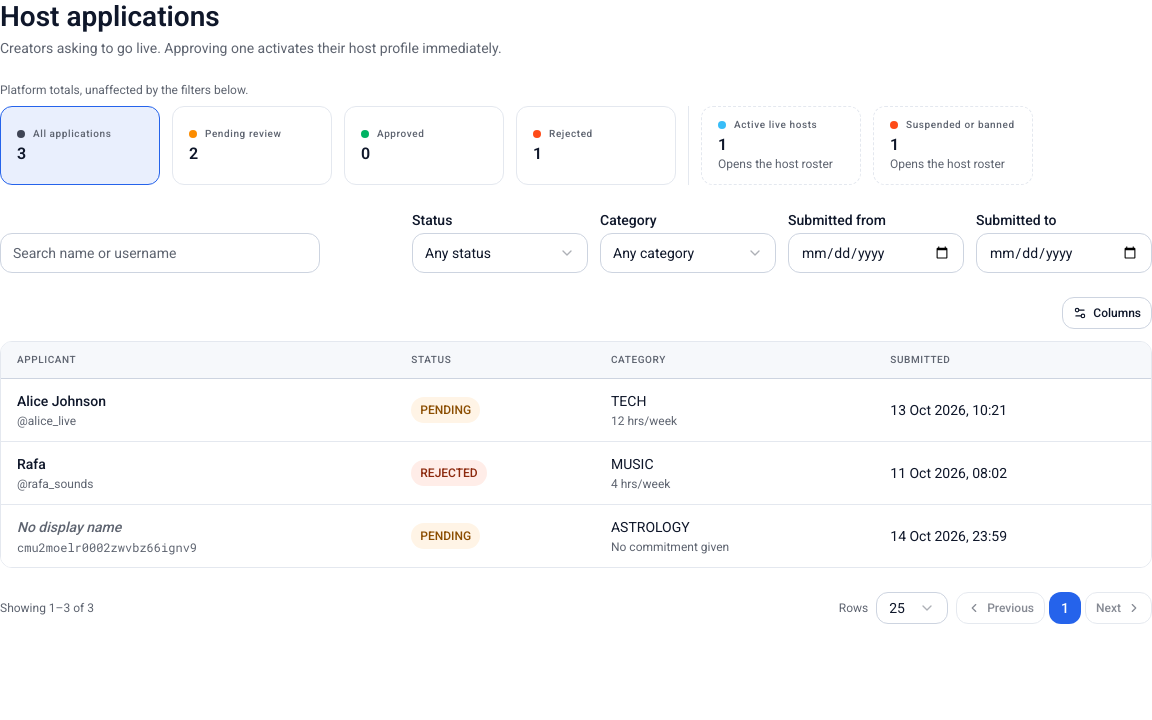
Test: the drawer › offers no decisions on an application already reviewed
Click the text "Rafa": (31, 464) [17,456,46,472]
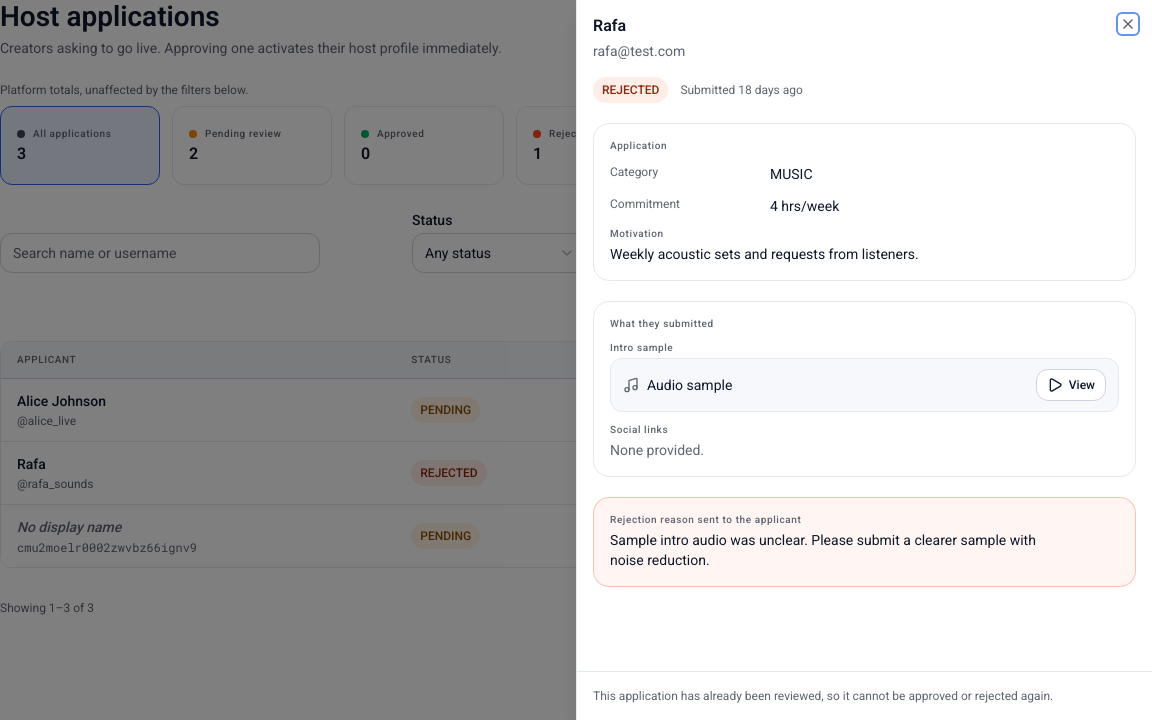
Check: the heading "Application" is shown, box [610,140,667,151]
Check: the text "already been reviewed" is shown, box [593,689,1053,703]
